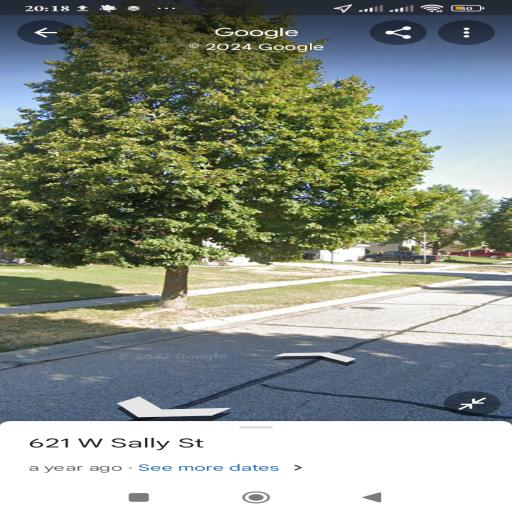Roads: (14, 284, 512, 424)
Trees: (45, 18, 340, 326)
